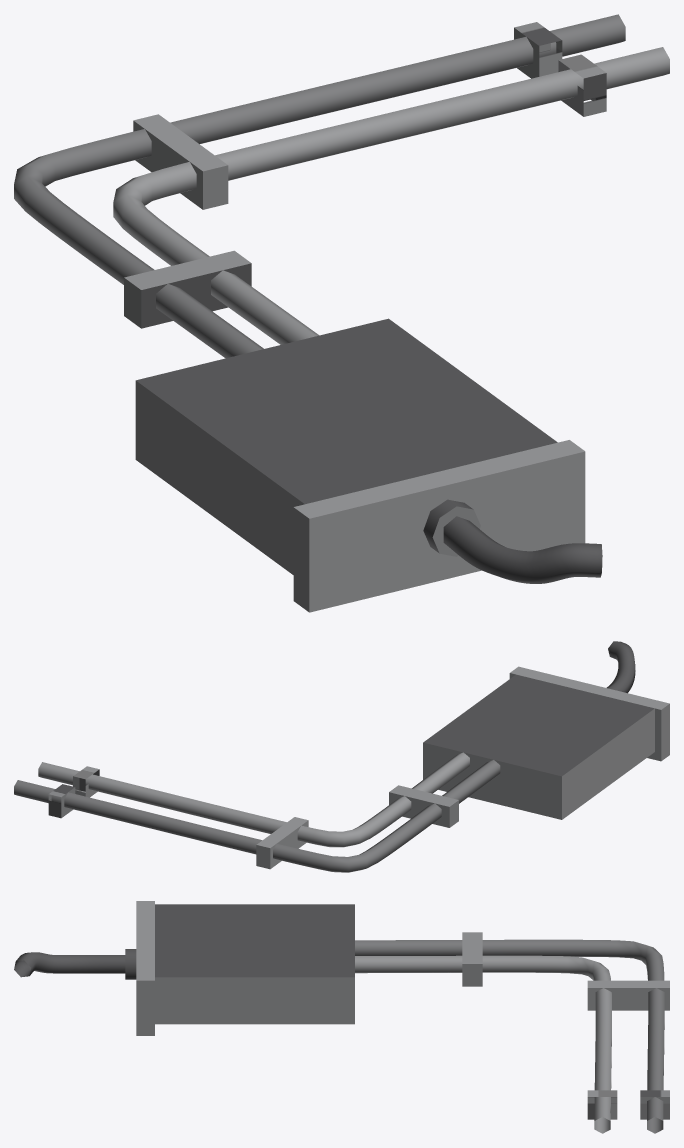
3 views of the same model, one above another, from view 1: azimuth 30°, elevation 25°; view 2: azimuth 150°, elevation 25°; view 3: azimuth 270°, elevation 25° (orthographic). The views are drawn at different scales.
Size of the model in its own units: 0.651 by 0.078 by 0.837.
